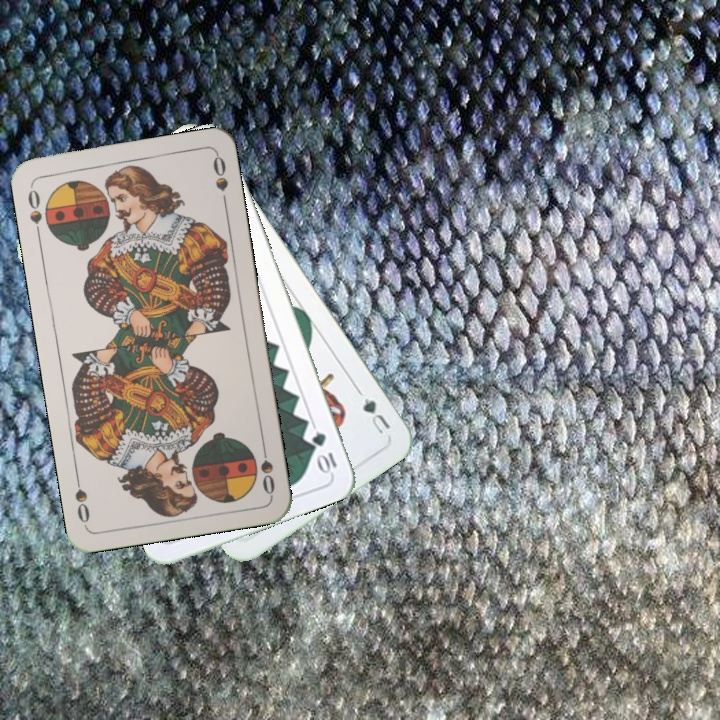G10: (308, 428, 340, 476)
GU: (358, 393, 393, 437)
SO: (256, 438, 278, 498), (24, 181, 45, 241)
